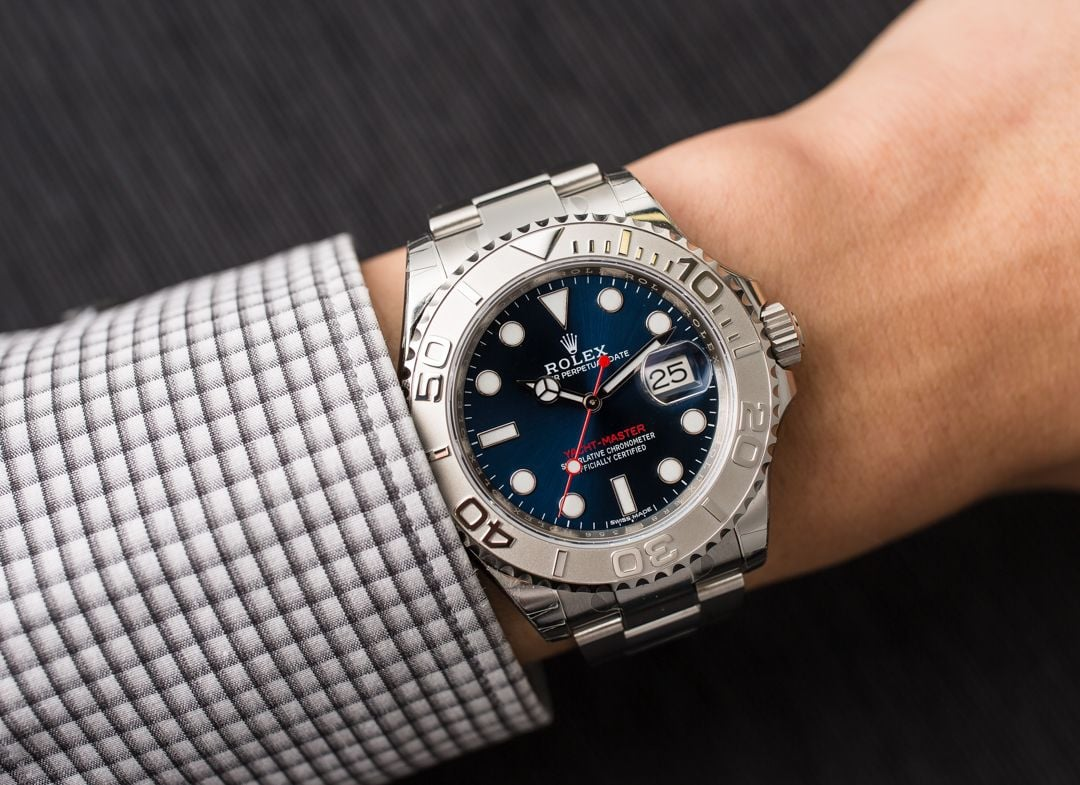clock: (459, 272, 723, 540)
